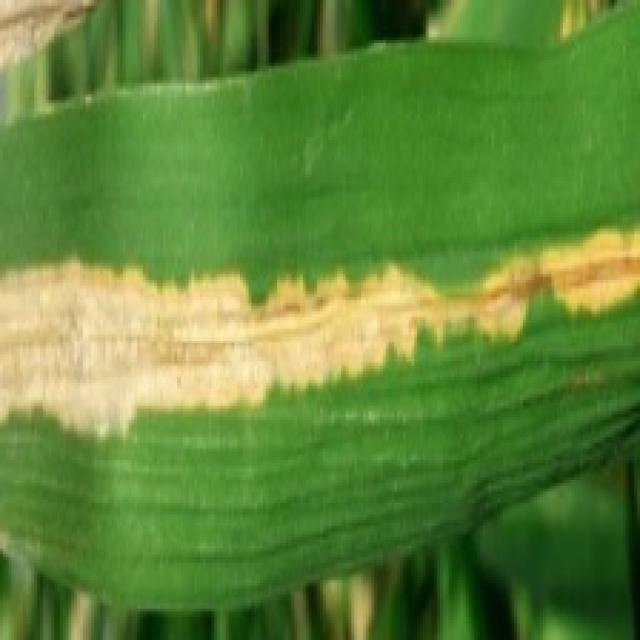Rice___Bacterial_Leaf_Blight: (0, 0, 637, 618)
